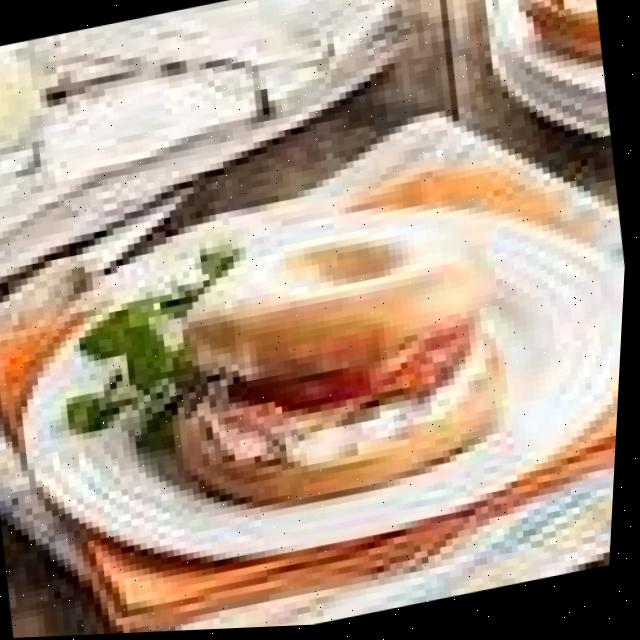Bagel: (191, 214, 497, 382)
